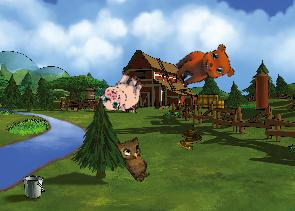bear: (169, 36, 239, 101)
owl: (110, 130, 161, 184)
pig: (96, 65, 149, 120)
